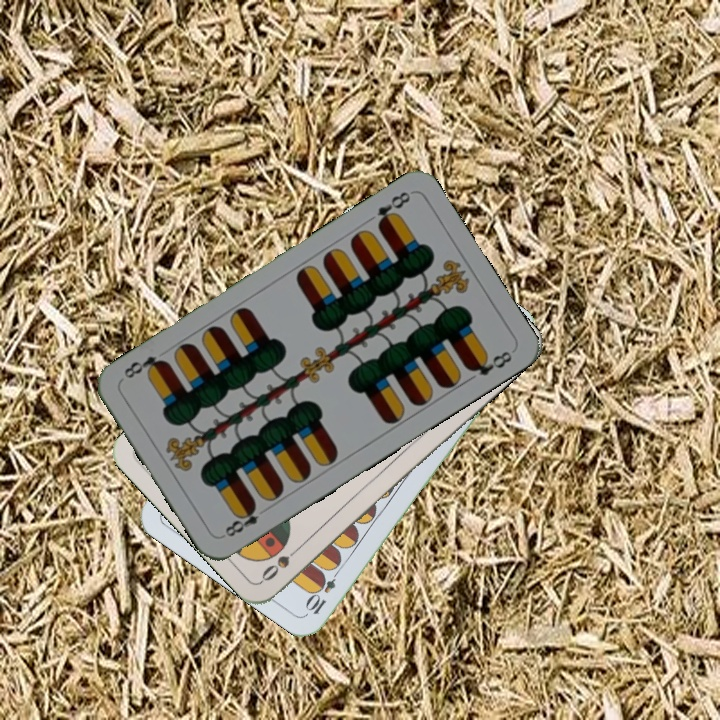E10: (303, 562, 344, 617)
E8: (372, 187, 414, 231), (218, 500, 262, 540)
SO: (257, 539, 306, 584)
